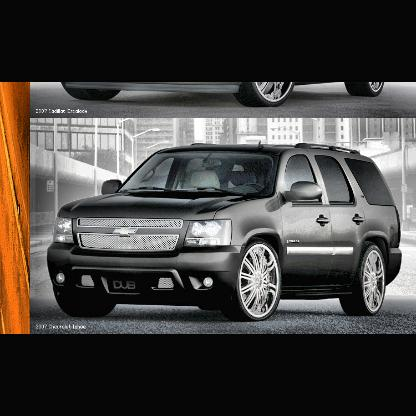Chevrolet Tahoe Hybrid SUV 2012: (48, 141, 407, 322)
